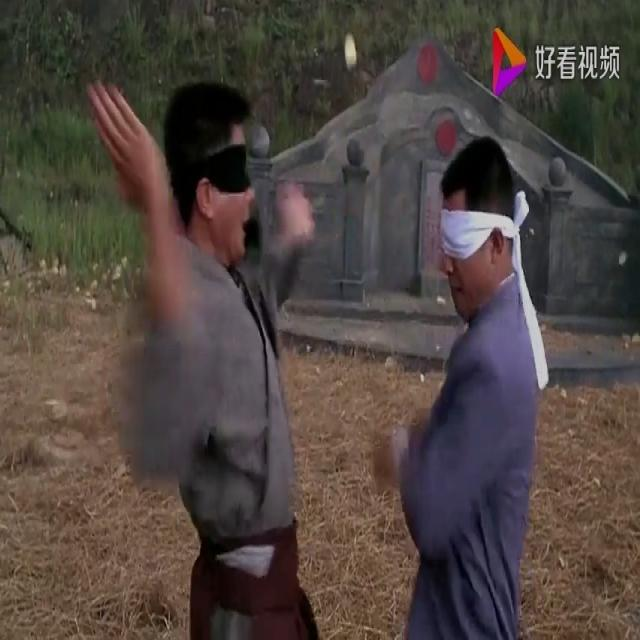fight: (126, 89, 568, 639)
